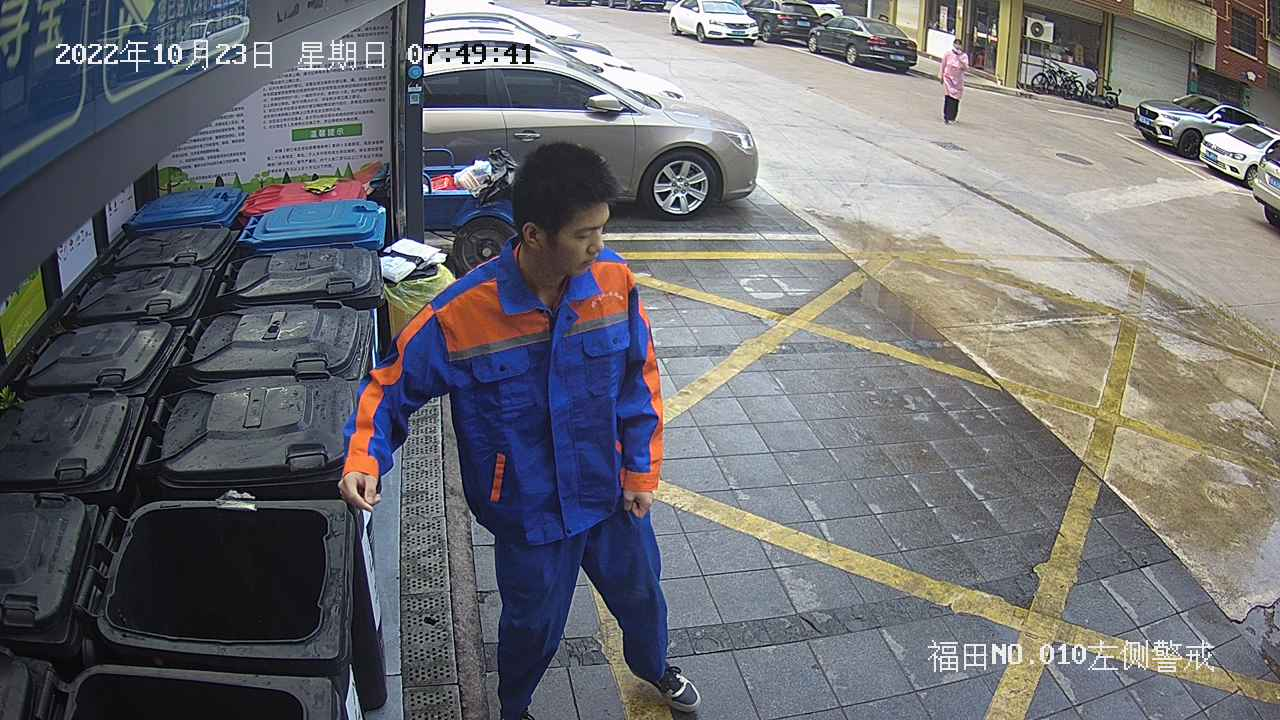worker: (333, 135, 706, 720)
